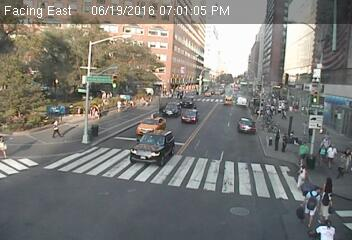neg: (186, 49, 201, 68), (195, 72, 207, 88), (216, 86, 227, 102), (225, 94, 234, 106), (210, 68, 219, 79), (208, 85, 216, 95)
pos: (267, 127, 288, 154), (46, 117, 65, 143), (278, 134, 294, 154)
